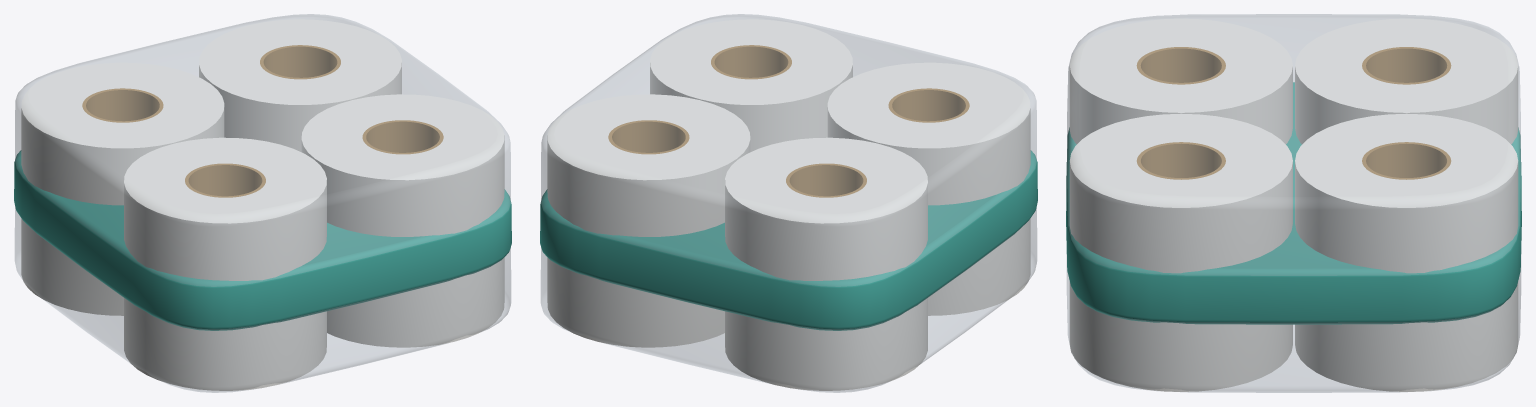
Rendered from papel_higienico_fardo_4_rolos.dae.
The picture shows the model from 3 angles, left to right: view 1: azimuth 30°, elevation 25°; view 2: azimuth 150°, elevation 25°; view 3: azimuth 270°, elevation 25°; orthographic projection. The views are drawn at different scales.
Visible parts, largest first — view 1: Papel higienico - fardo 4 rolos (×4); view 2: Papel higienico - fardo 4 rolos (×4); view 3: Papel higienico - fardo 4 rolos (×4).
Part boxes in pixels (<box>): Papel higienico - fardo 4 rolos (×4): <box>14,14,511,392</box>; Papel higienico - fardo 4 rolos (×4): <box>540,14,1037,392</box>; Papel higienico - fardo 4 rolos (×4): <box>1066,14,1521,392</box>.
Size of the model in its own units: 225 by 225 by 106.
